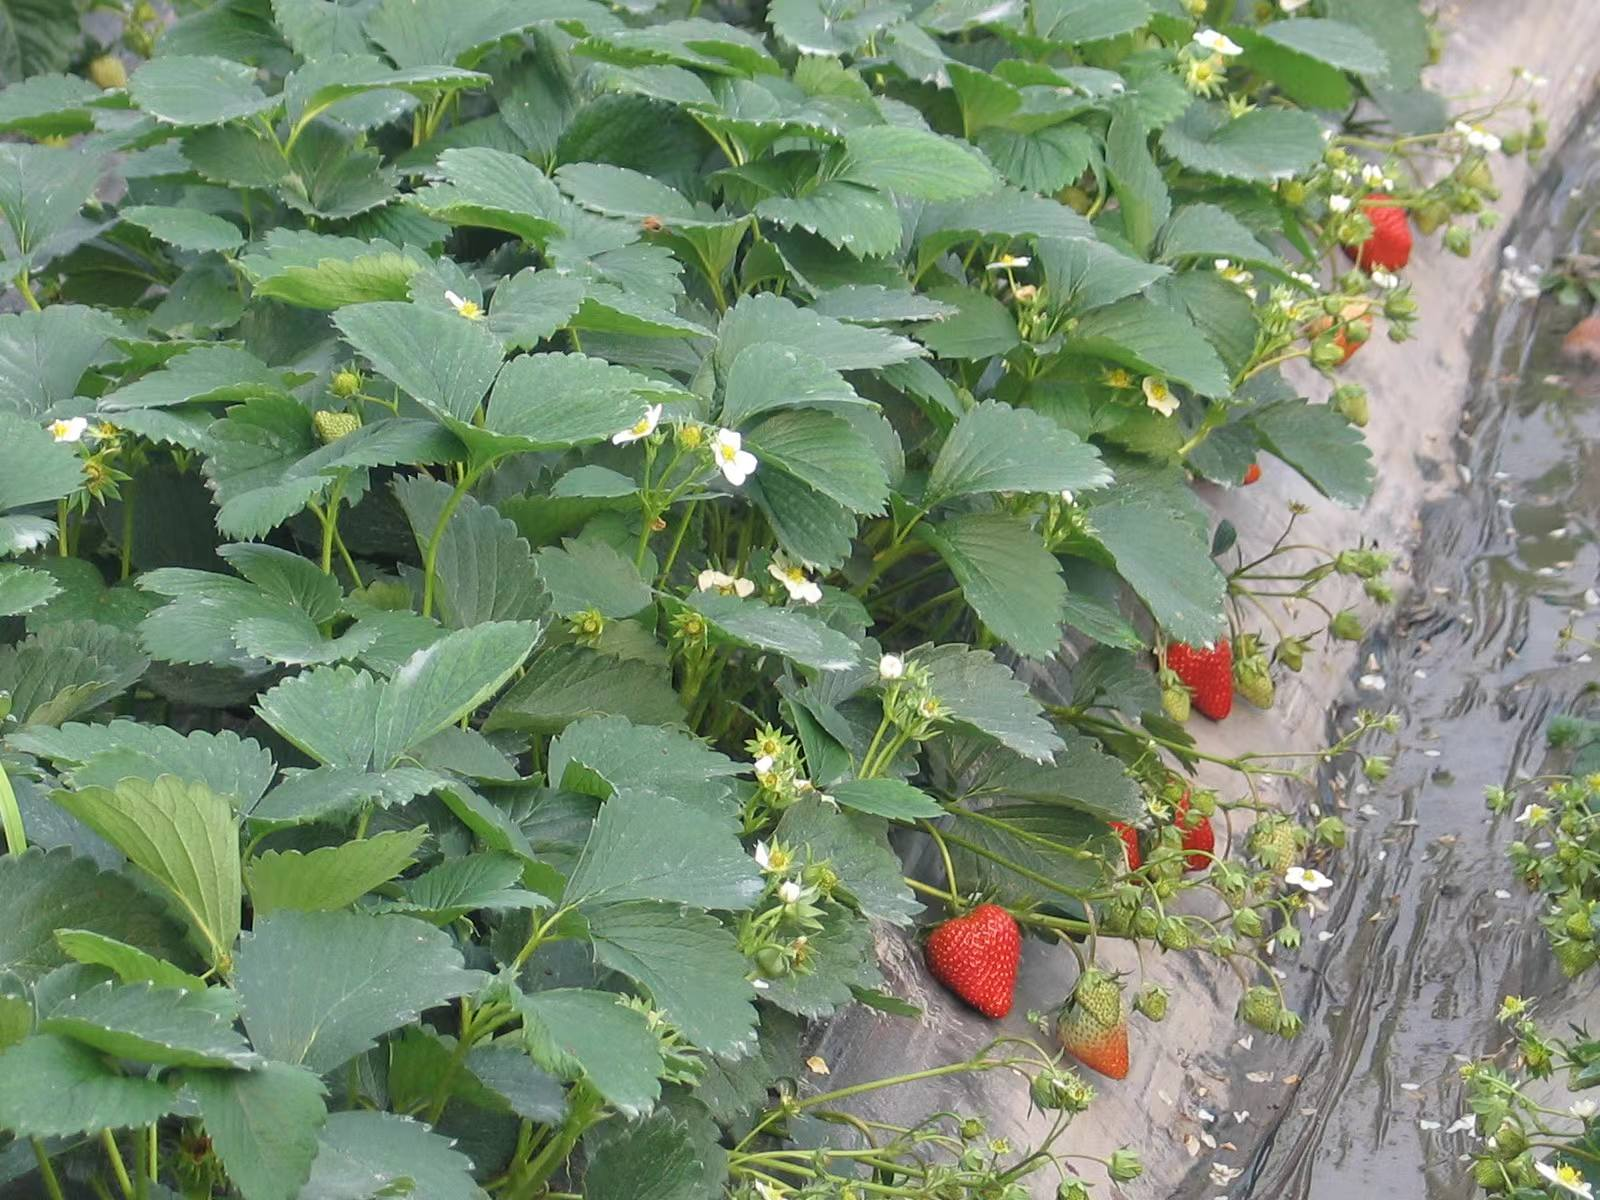StrawberryCone: (918, 894, 1029, 1032), (1337, 185, 1427, 271), (1169, 626, 1243, 722)
StrawberryIrremovable: (1052, 1006, 1150, 1084), (1300, 296, 1380, 371), (1243, 816, 1301, 876), (1068, 968, 1128, 1018), (1027, 1070, 1083, 1112), (1238, 988, 1283, 1032), (1233, 664, 1275, 710), (1483, 1116, 1529, 1156), (1547, 938, 1591, 978), (1313, 812, 1356, 852), (1333, 382, 1369, 426), (1129, 984, 1169, 1022), (1097, 896, 1135, 937), (1473, 1152, 1511, 1192), (1558, 904, 1595, 944), (1227, 906, 1267, 942), (1271, 632, 1305, 672), (1325, 610, 1363, 640), (1129, 906, 1162, 938), (1555, 838, 1585, 872), (1162, 918, 1189, 950)
StrawberryOther: (1155, 794, 1220, 879), (1091, 798, 1151, 879)
StrawberryRemovable: (923, 896, 1026, 1026), (1165, 620, 1245, 724), (1340, 187, 1421, 274), (1157, 795, 1217, 876), (1094, 802, 1146, 876)
